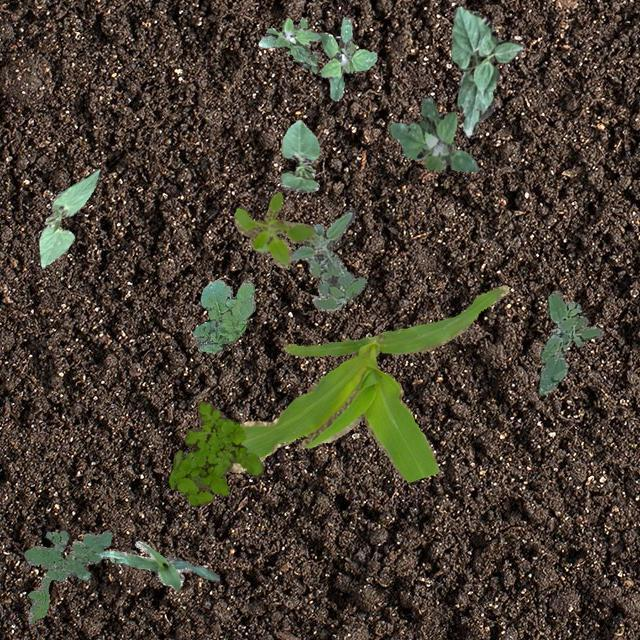crop: (225, 284, 508, 481), (451, 5, 522, 136), (38, 168, 100, 266), (94, 540, 218, 588), (278, 118, 318, 192)
weed: (168, 400, 262, 504), (22, 530, 112, 622), (290, 208, 366, 310), (536, 290, 602, 394), (388, 96, 478, 170), (232, 192, 314, 268), (320, 16, 376, 100), (192, 278, 254, 352), (258, 16, 320, 72)
